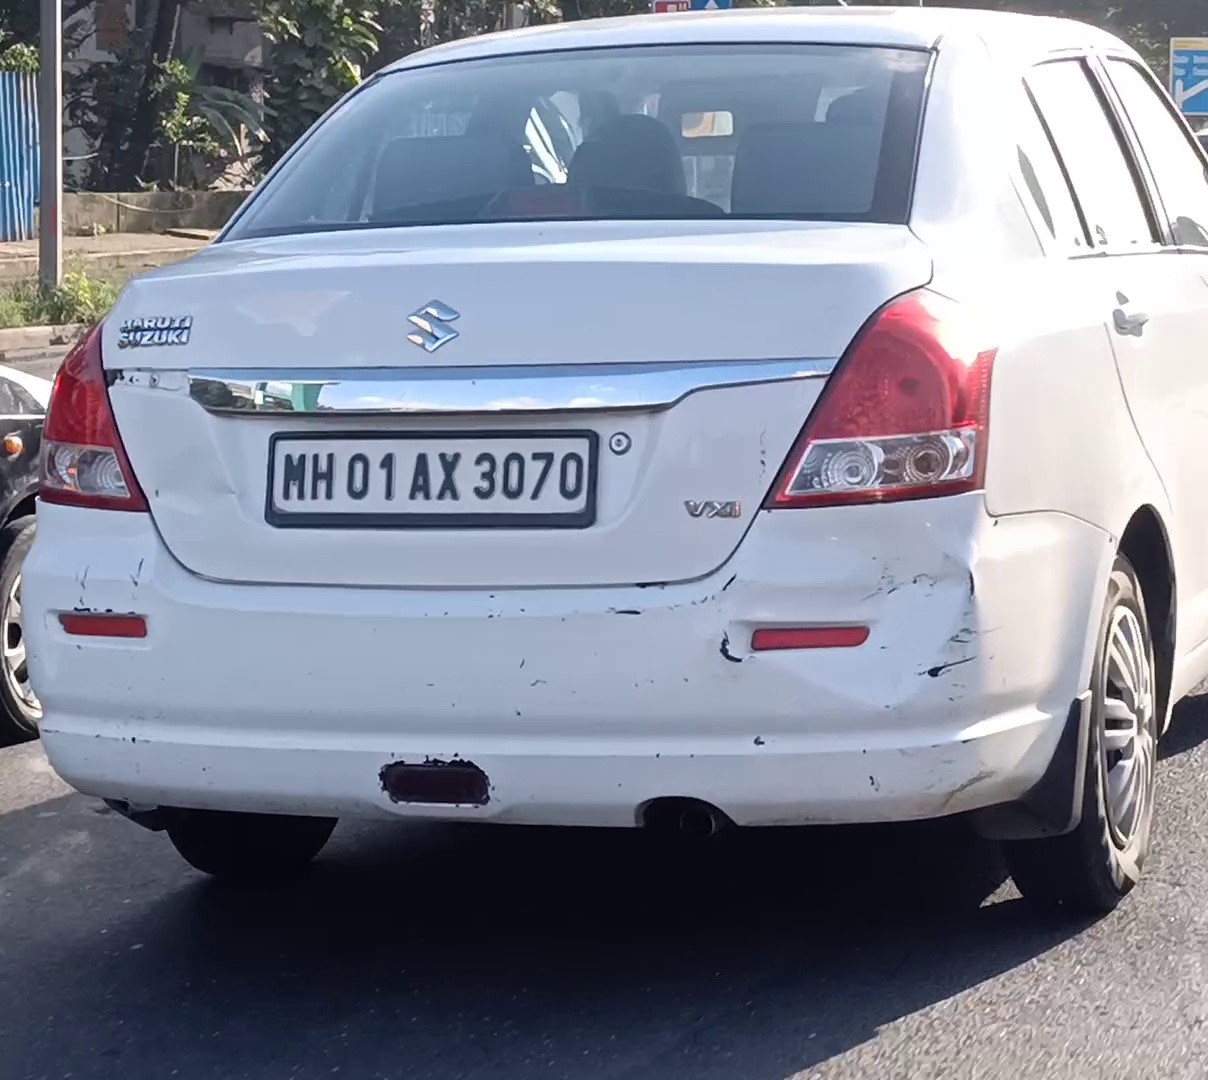MH01AX3070: (268, 436, 590, 511)
